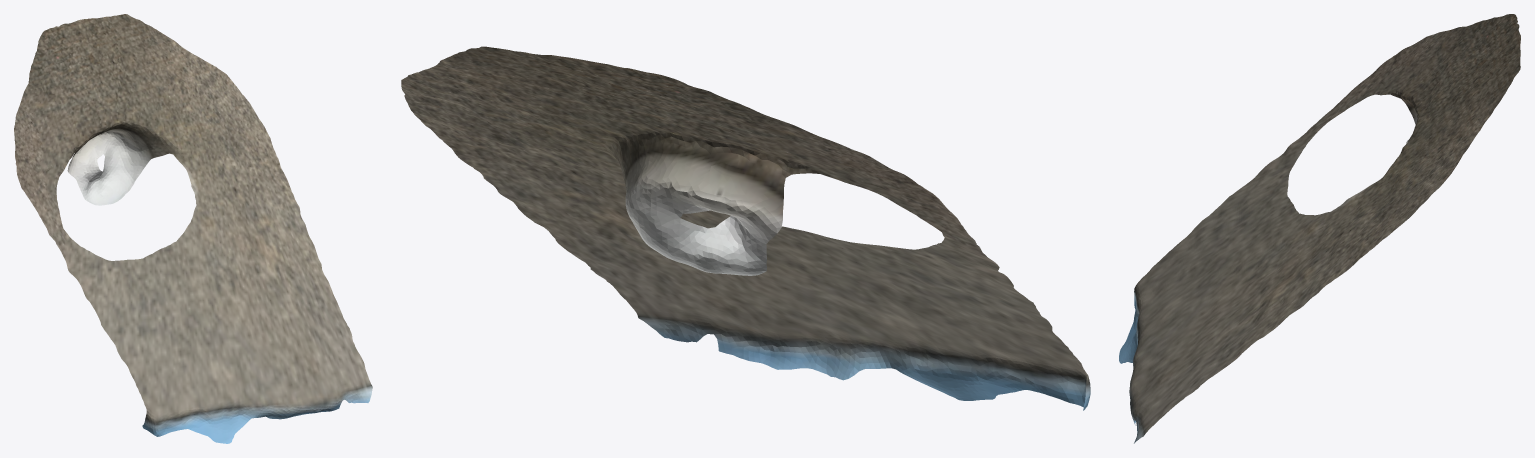
The picture shows the model from 3 angles, left to right: view 1: azimuth 30°, elevation 25°; view 2: azimuth 150°, elevation 25°; view 3: azimuth 270°, elevation 25°; orthographic projection. The views are drawn at different scales.
Parts seen in each view (by area): view 1: texturedMesh.001; view 2: texturedMesh.001; view 3: texturedMesh.001.
Boxes of the visible parts, <box> form: texturedMesh.001: <box>14,14,372,443</box>; texturedMesh.001: <box>401,46,1090,410</box>; texturedMesh.001: <box>1119,14,1520,443</box>.
Size of the model in its own units: 1.37 by 1.51 by 1.61.
Materials: 1 (1 with a texture image).
